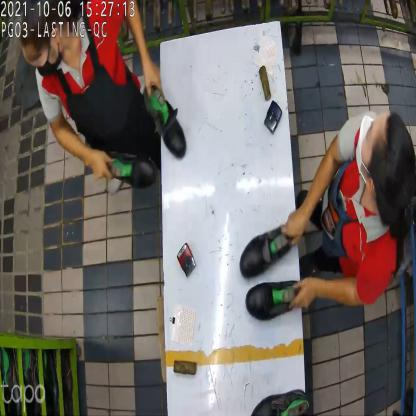shoes: (112, 82, 186, 184), (238, 229, 300, 325)
stamp: (262, 102, 284, 136), (175, 246, 198, 277)
